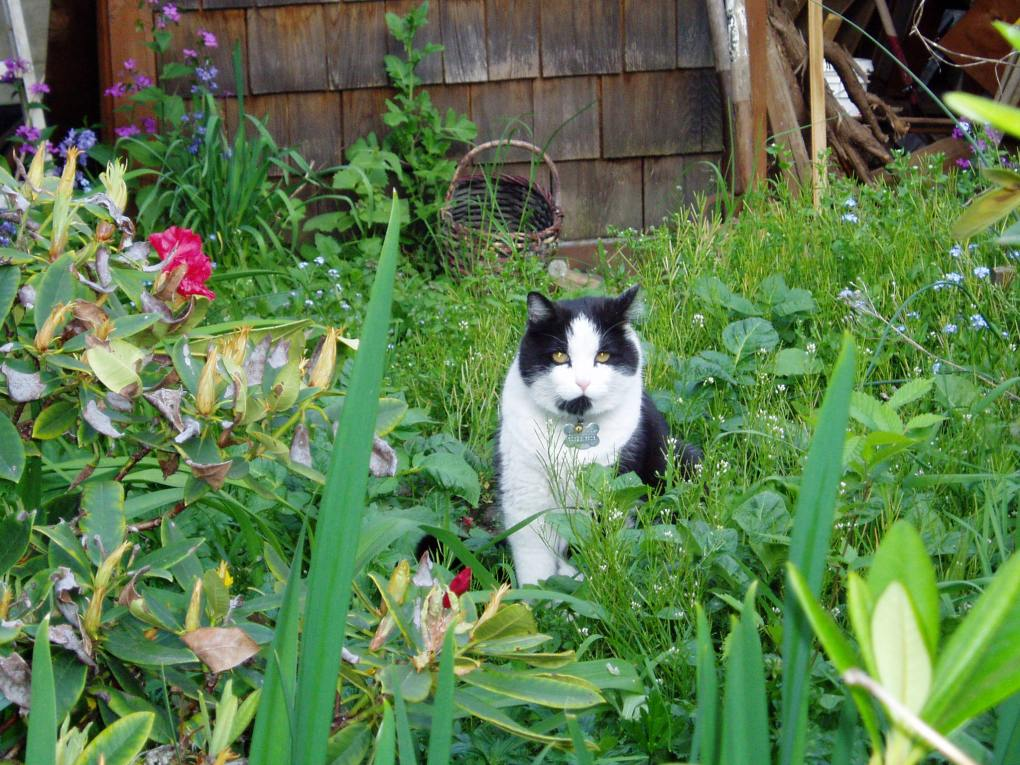cat: (499, 287, 699, 606)
